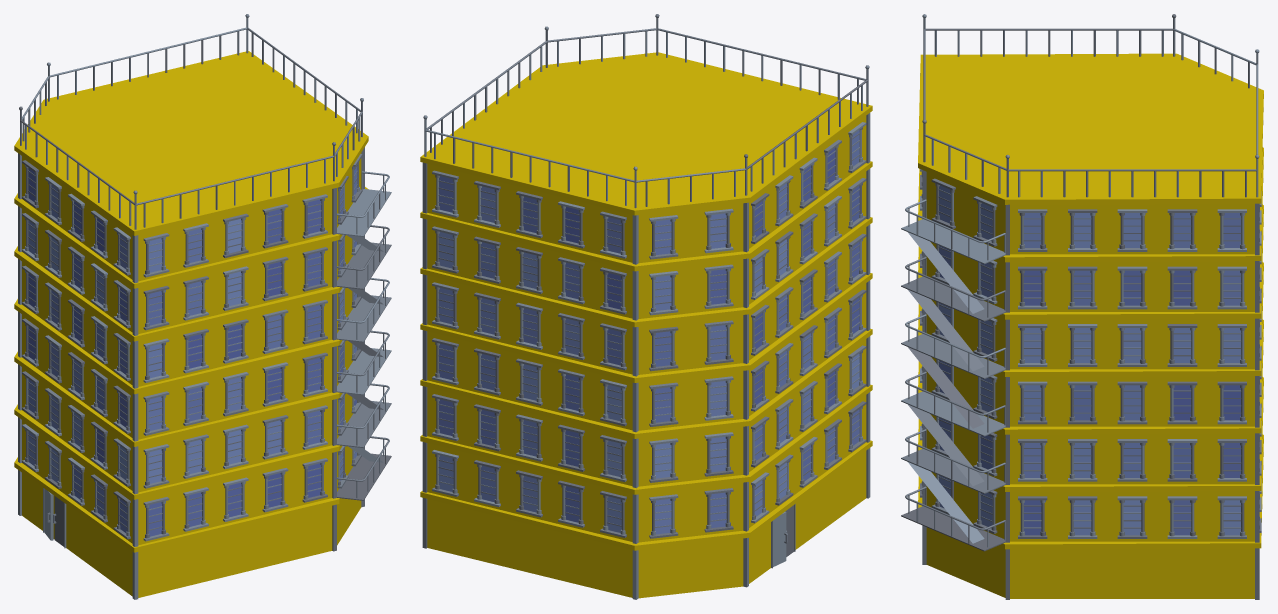
File: Building Procedural.016.fbx
3 renders of one model, left to right at view 1: azimuth 30°, elevation 25°; view 2: azimuth 150°, elevation 25°; view 3: azimuth 270°, elevation 25°, orthographic. The views are drawn at different scales.
Parts seen in each view (by area): view 1: Building Procedural.016; view 2: Building Procedural.016; view 3: Building Procedural.016.
Boxes of the visible parts, left/top/right/bottom form: Building Procedural.016: left=14, top=14, right=391, bottom=599; Building Procedural.016: left=420, top=14, right=872, bottom=599; Building Procedural.016: left=901, top=14, right=1263, bottom=599.
Size of the model in its own units: 1642 by 2210 by 1636.
